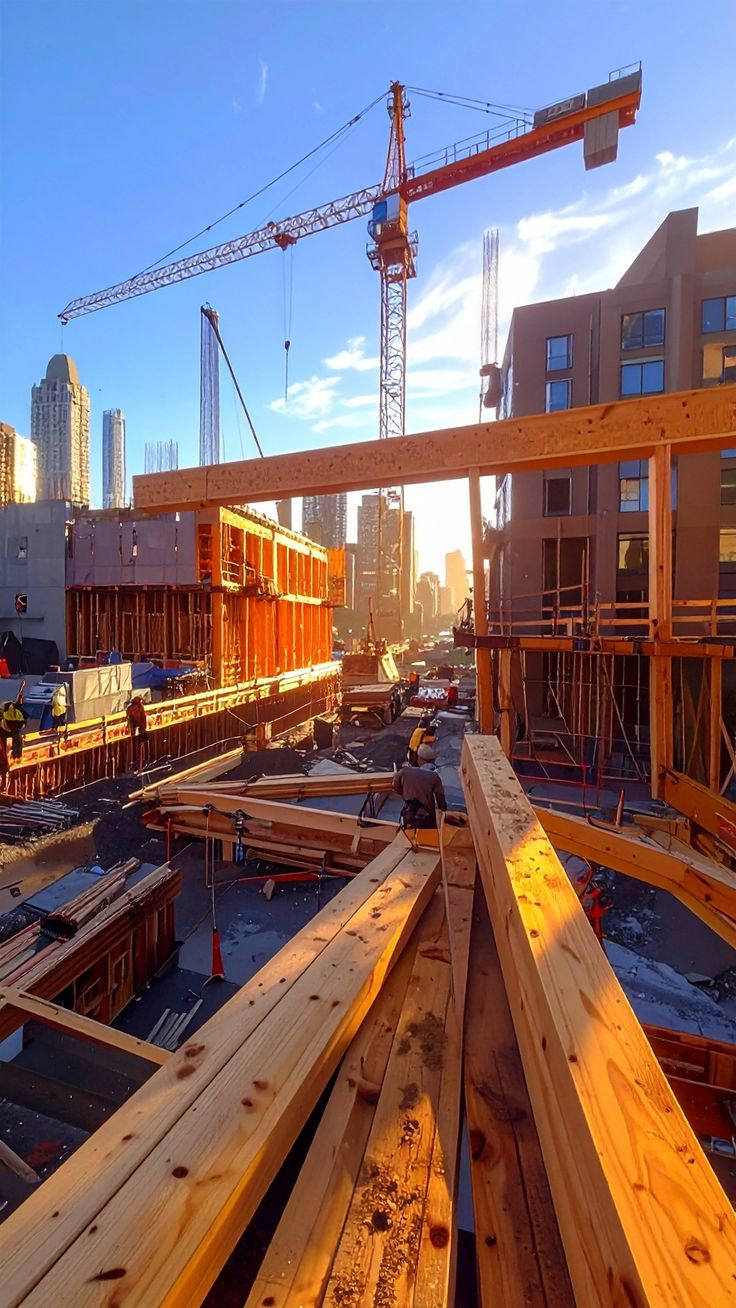crane: (31, 94, 685, 599)
